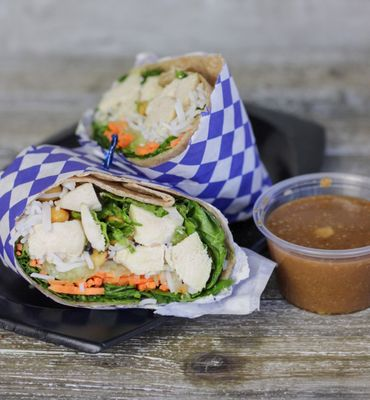sushi: (252, 172, 370, 316)
